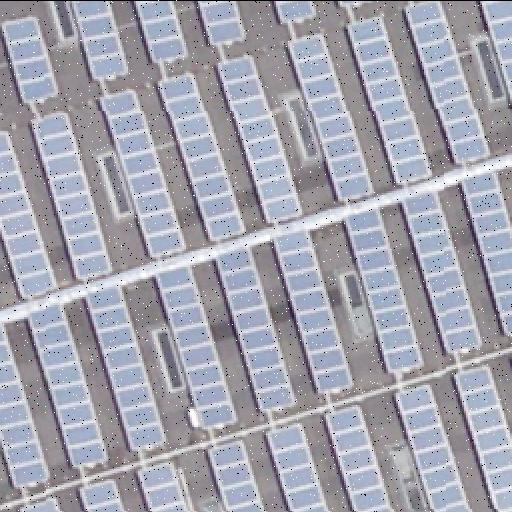solar-panel: (215, 47, 305, 225), (96, 85, 188, 259), (283, 29, 373, 203), (158, 69, 246, 243), (345, 14, 431, 186), (403, 0, 493, 164), (28, 108, 112, 280), (84, 283, 168, 453), (397, 189, 483, 355), (153, 261, 239, 427), (271, 226, 353, 394), (343, 205, 425, 371), (27, 301, 109, 467), (217, 244, 295, 412), (391, 380, 473, 512), (0, 125, 60, 299), (452, 360, 512, 512), (460, 169, 512, 335), (0, 322, 52, 486), (322, 401, 394, 511), (261, 417, 331, 511), (0, 10, 60, 102), (68, 0, 128, 80), (208, 436, 268, 512), (480, 1, 512, 103), (136, 1, 188, 63), (136, 456, 192, 512), (196, 1, 248, 47), (80, 476, 128, 512), (272, 0, 316, 24), (22, 496, 62, 512), (333, 1, 355, 7), (0, 104, 4, 112)
